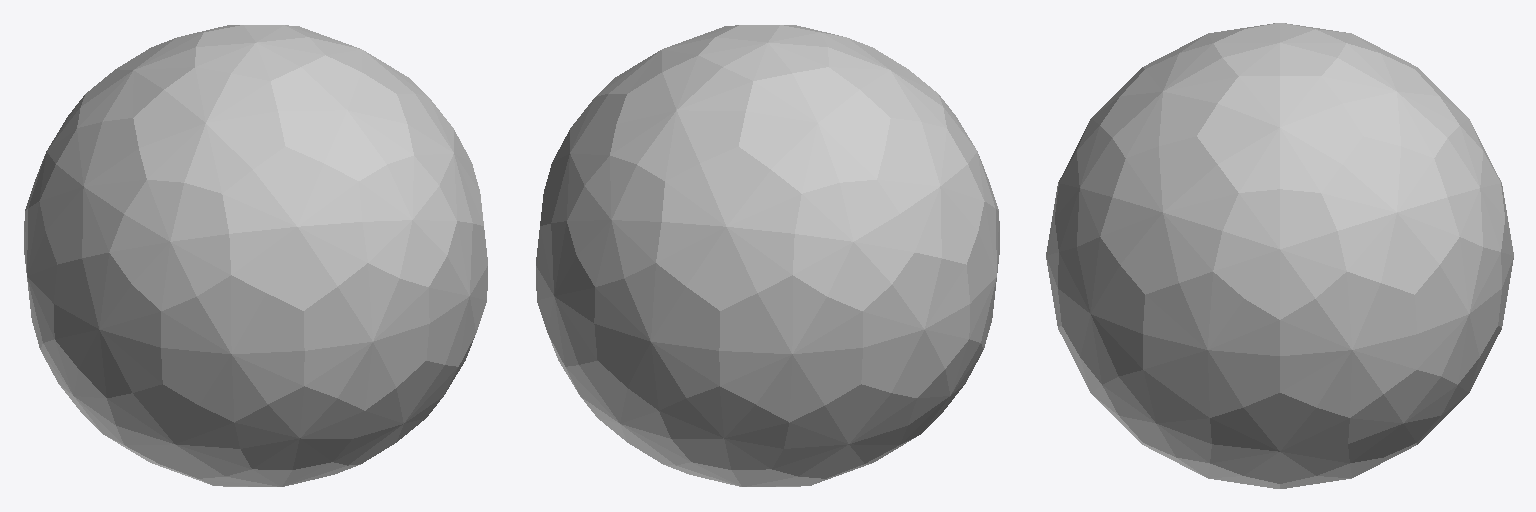
File: void_shell.obj
The picture shows the model from 3 angles: view 1: azimuth 30°, elevation 25°; view 2: azimuth 150°, elevation 25°; view 3: azimuth 270°, elevation 25°; orthographic projection.
Parts seen in each view (by area): view 1: Icosphere; view 2: Icosphere; view 3: Icosphere.
Part boxes in pixels (left/top/right/bottom): Icosphere: left=24, top=25, right=487, bottom=486; Icosphere: left=536, top=25, right=999, bottom=486; Icosphere: left=1046, top=23, right=1513, bottom=488.
Bounding box in the file's own units: 33.51 × 33.77 × 33.57.